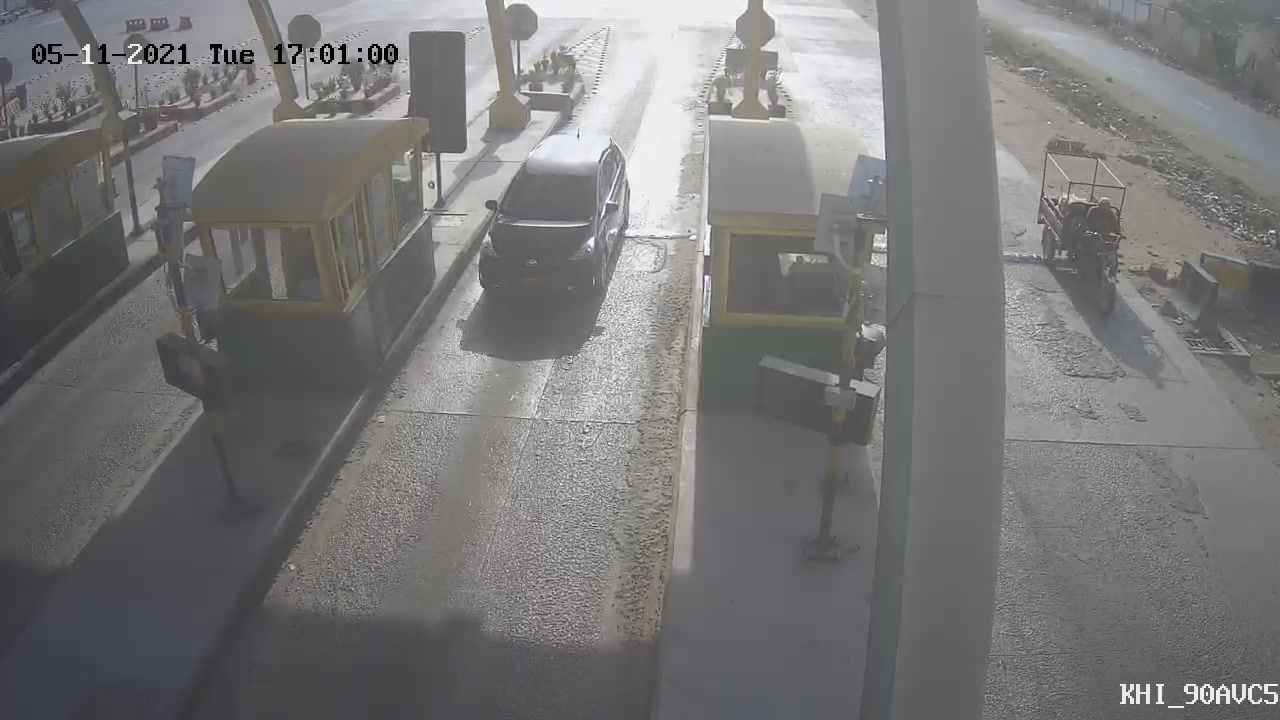F1: (452, 118, 648, 325)
